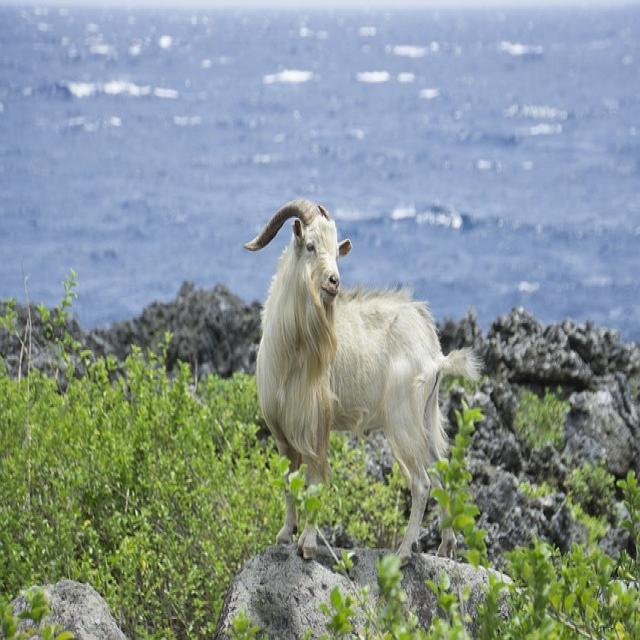goat: (243, 200, 481, 554)
